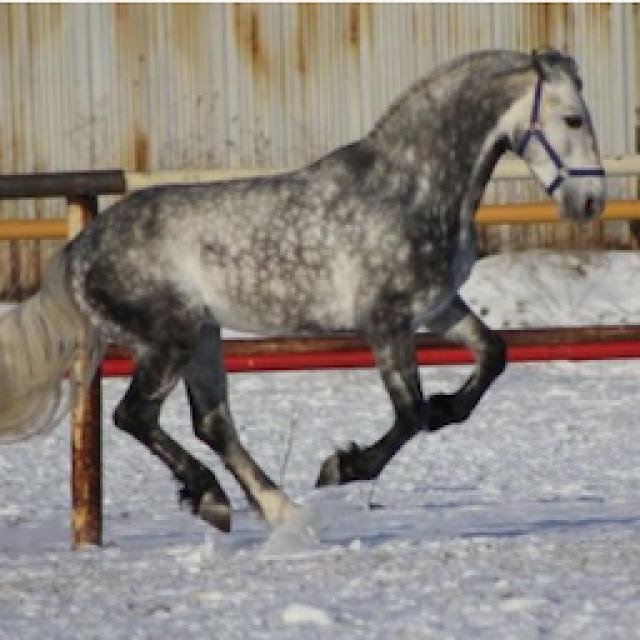Horse: (0, 40, 612, 555)
